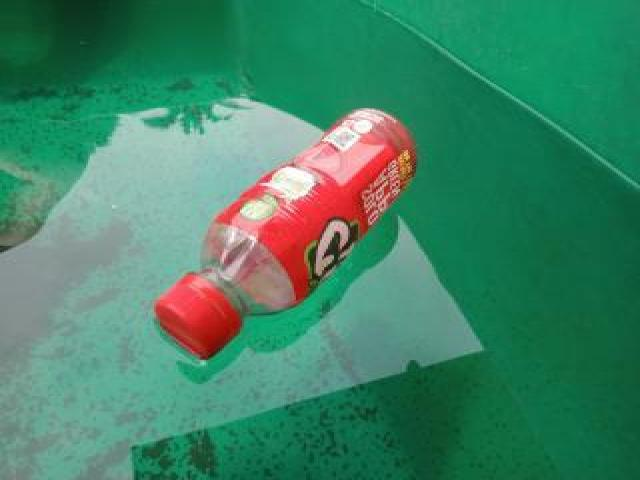Bottle: (147, 101, 422, 364)
